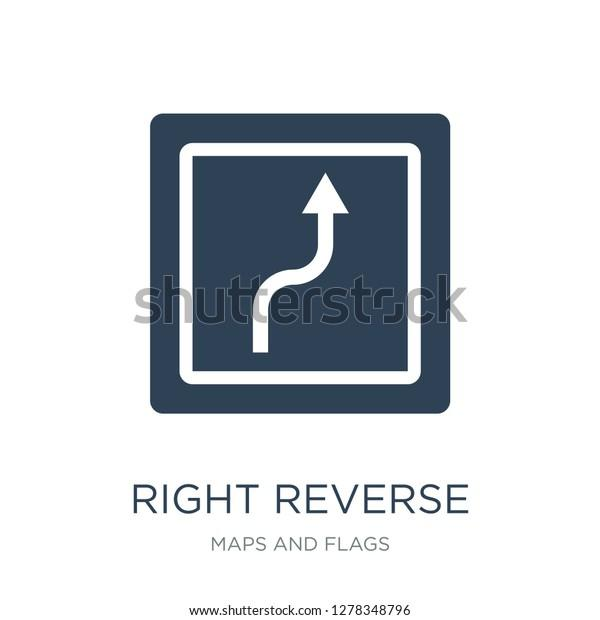Right Reverse Bend: (115, 89, 461, 431)
